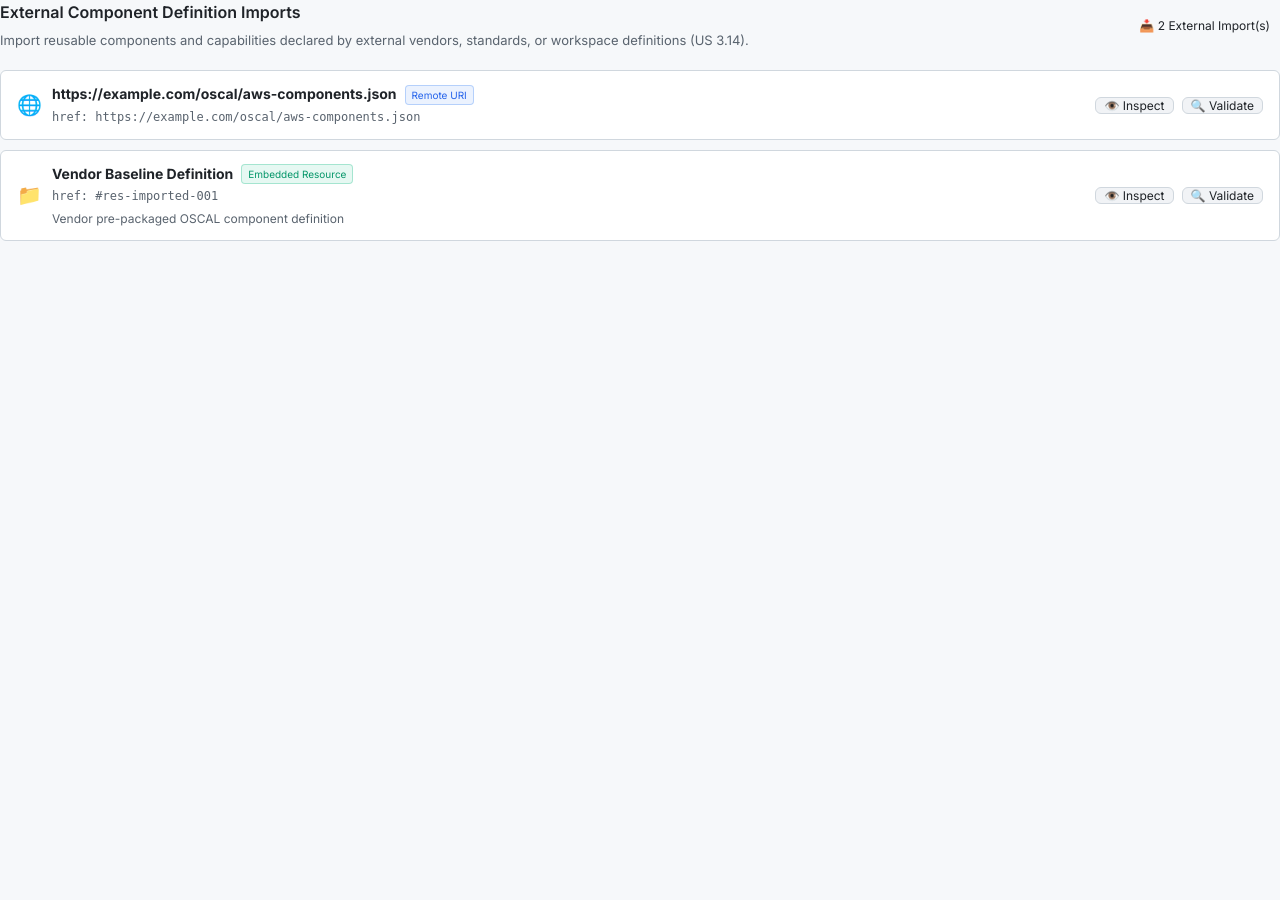
Test case: ImportDefinitionsEditor Unit Tests › opens read-only inspection drawer when Inspect is clicked
The image size is (1280, 900).
Click the button "👁️ Inspect" in the row of "#res-imported-001".
click(1134, 195)  # box x1=1095 y1=187 x2=1174 y2=204
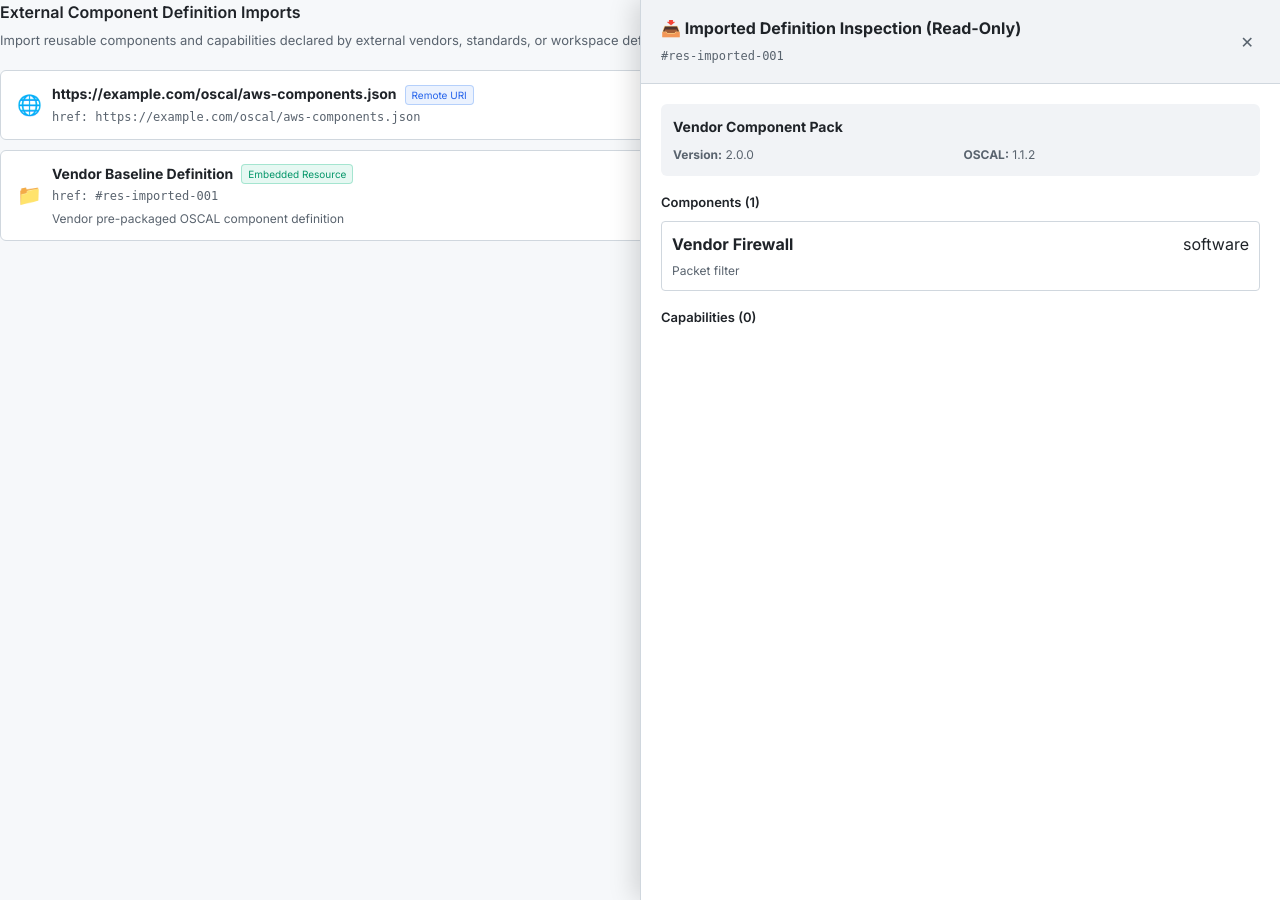
Expected: the heading "📥 Imported Definition Inspection (Read-Only)" is shown, x1=661 y1=16 x2=1021 y2=42
Expected: the heading "Vendor Component Pack" is shown, x1=673 y1=118 x2=843 y2=135
Expected: the text "Vendor Firewall" is shown, x1=672 y1=232 x2=793 y2=257
